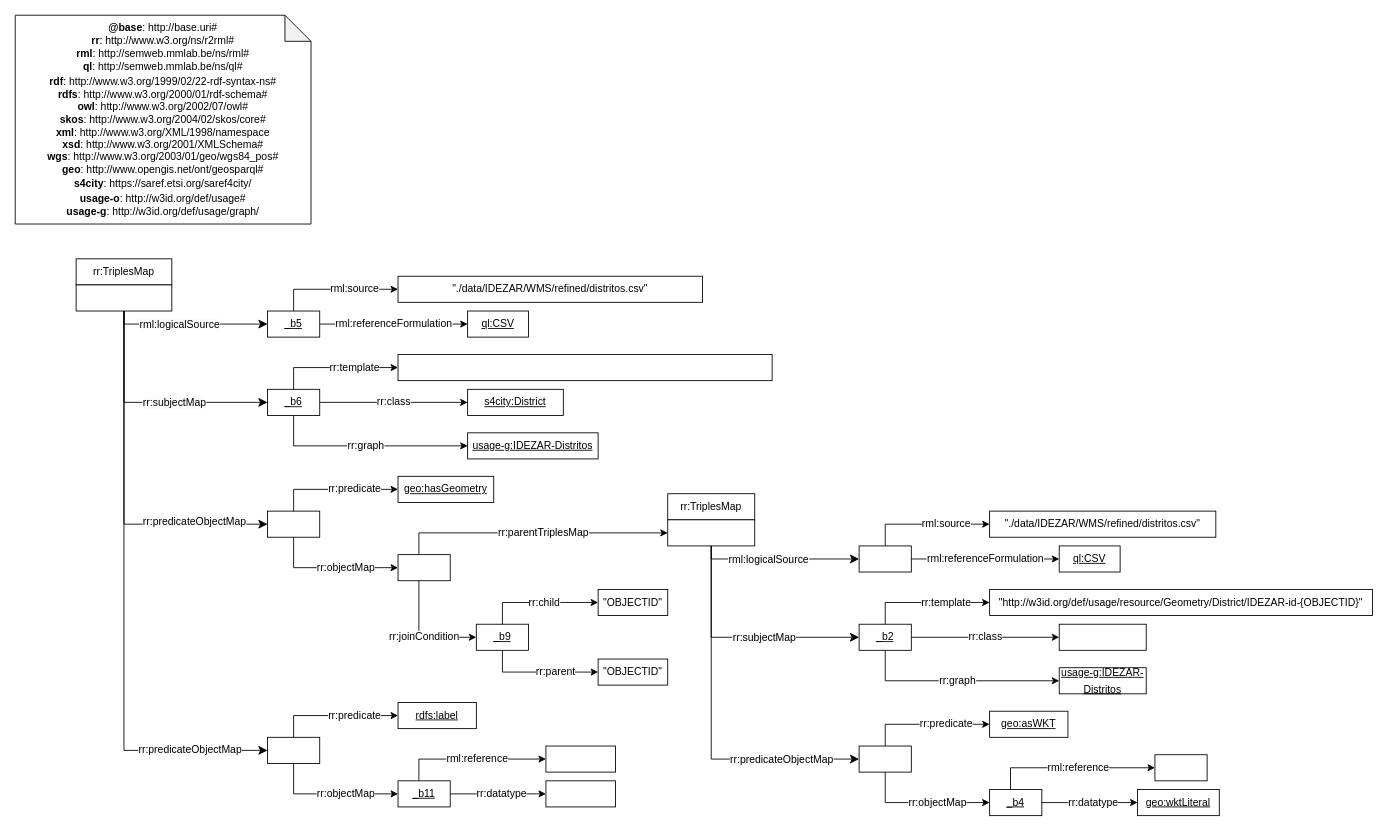
The diagram is 1388 pixels wide and 831 high, and some of its shapes have lost their labels. The shapes that lost their labels are listed below. From the top down, each one's centre as x and y in pixels, then its label:
(x=123, y=297): <#District>
(x=584, y=367): "http://w3id.org/def/usage/resource/District/IDEZAR-id-{OBJECTID}"
(x=293, y=523): _b7
(x=711, y=532): <#Geometry>
(x=423, y=567): _b8
(x=884, y=558): _b1
(x=1102, y=636): geo:Geometry
(x=293, y=749): _b10
(x=580, y=758): "DISTRITO"
(x=884, y=758): _b3
(x=1180, y=767): "asWKT"
(x=580, y=793): xsd:string
